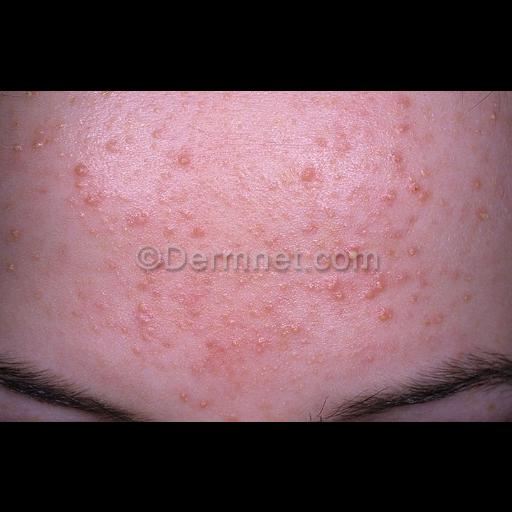Skin_Lesion: (170, 207, 214, 249), (318, 110, 358, 156), (360, 265, 388, 301), (165, 91, 197, 121), (400, 243, 428, 277), (150, 172, 186, 198), (119, 208, 153, 234), (280, 318, 310, 346), (274, 270, 296, 308), (321, 271, 347, 303), (463, 202, 493, 228), (192, 268, 216, 300), (96, 136, 130, 158), (245, 330, 273, 356), (76, 188, 106, 212), (131, 299, 157, 323), (172, 143, 196, 169), (197, 394, 221, 420), (297, 164, 325, 186), (1, 254, 23, 280), (24, 129, 46, 155), (296, 219, 330, 235), (232, 268, 254, 292), (2, 219, 24, 243), (74, 278, 96, 300), (376, 303, 394, 325), (442, 118, 464, 136), (128, 338, 146, 358), (404, 288, 422, 308), (388, 146, 406, 166), (482, 268, 504, 284), (71, 160, 89, 178), (380, 191, 398, 209), (396, 94, 414, 112), (424, 311, 444, 327), (408, 178, 424, 194), (468, 139, 486, 153), (471, 176, 487, 190), (396, 118, 410, 134), (485, 398, 499, 414), (480, 146, 494, 162), (21, 90, 41, 100), (100, 90, 120, 100), (12, 138, 24, 154), (180, 388, 192, 404), (420, 166, 434, 178), (439, 194, 451, 208), (476, 120, 488, 134), (452, 111, 466, 123), (488, 110, 500, 122)
